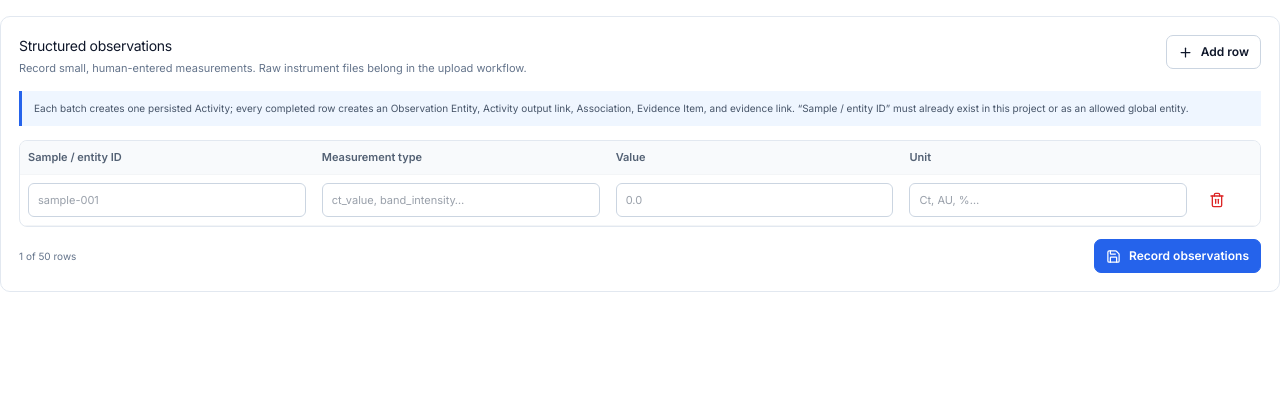
Test case: ProjectObservationTable › keeps entered rows and exposes the failed phase after a partial write
In the field named "Row 1 sample or entity ID": (167, 200) [28,182,306,217], type "sample-1"
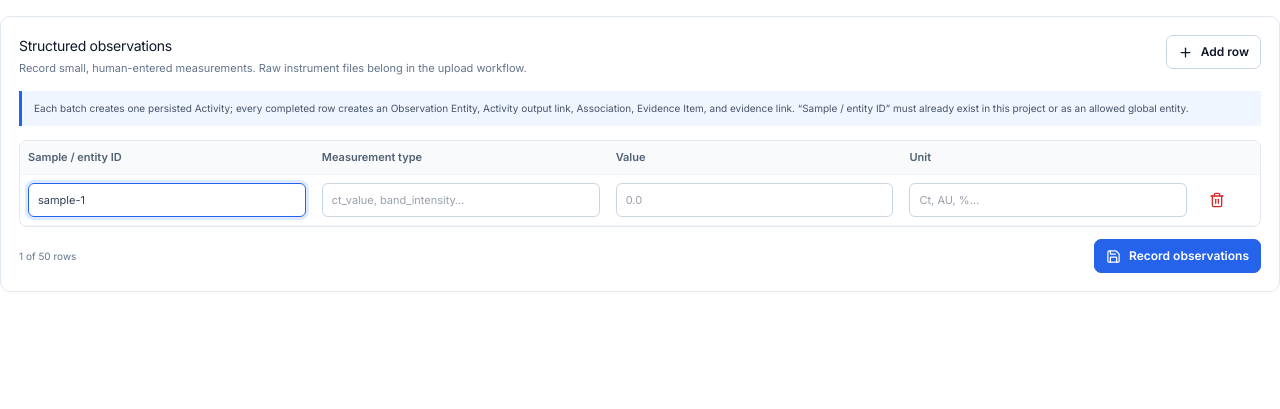
In the field named "Row 1 measurement type": (461, 200) [322,182,600,217], type "ct_value"
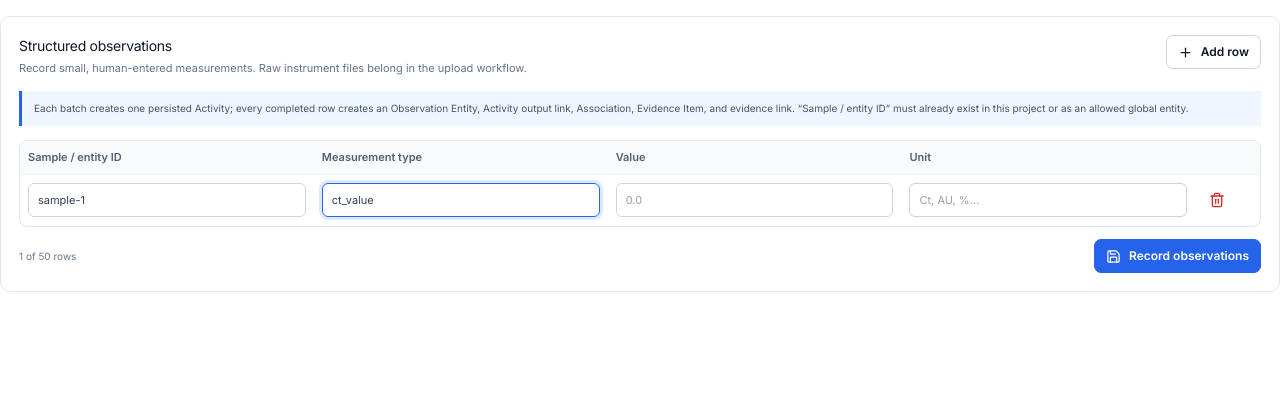
In the number field named "Row 1 value": (755, 200) [616,182,894,217], type "19.4"
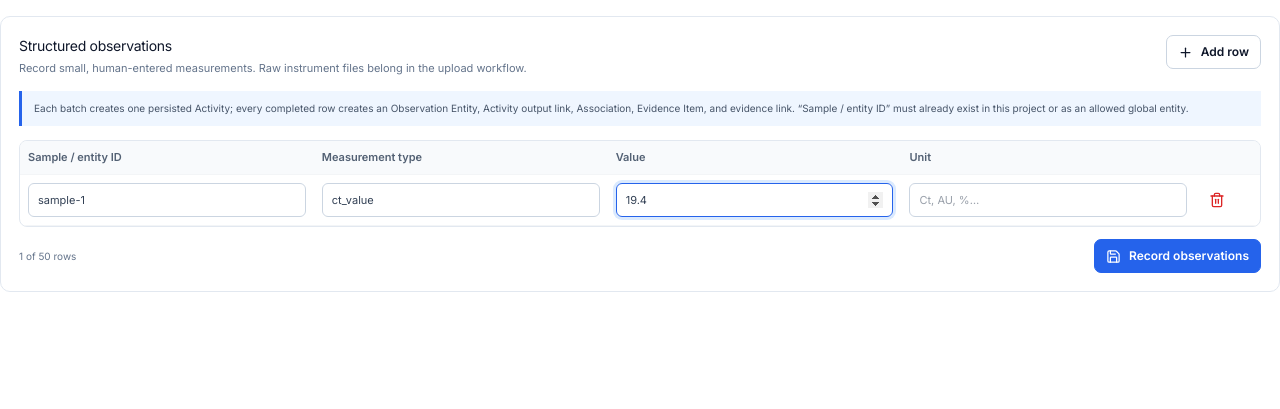
In the field named "Row 1 unit": (1048, 200) [910,182,1187,217], type "Ct"
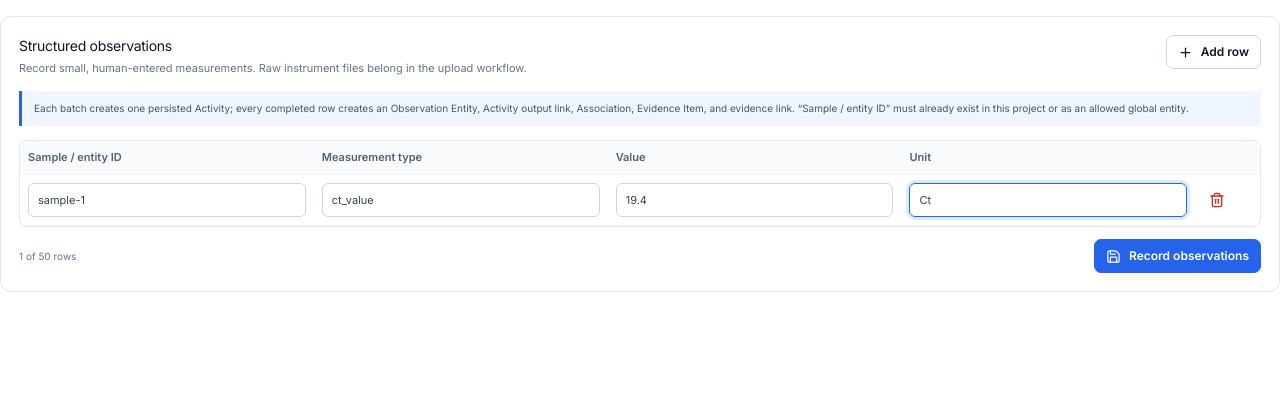
Click the button "Record observations": (1178, 256) [1094,239,1261,273]
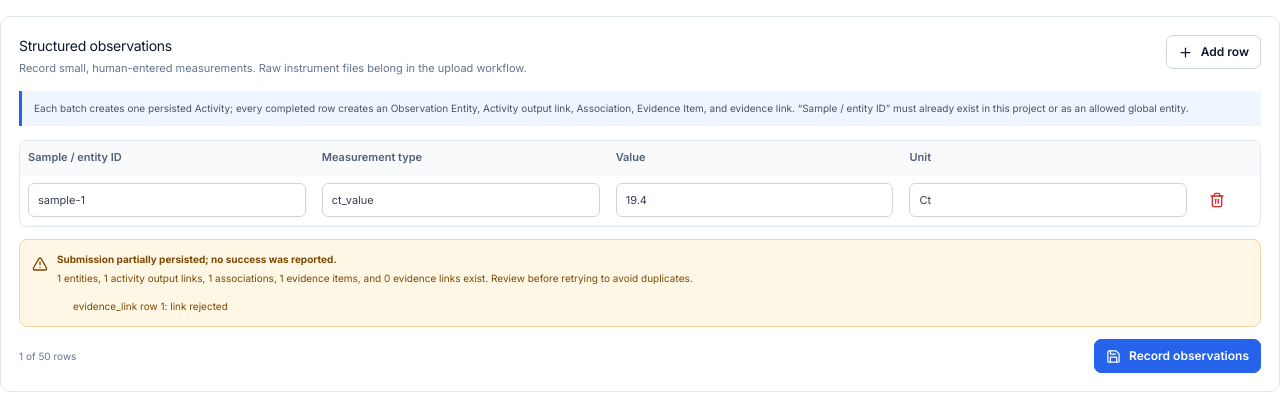
Expected: the message shows "Submission partially persisted; no success was reported", [57,253,337,265]
Expected: the message shows "evidence_link row 1: link rejected", [19,239,1261,327]
